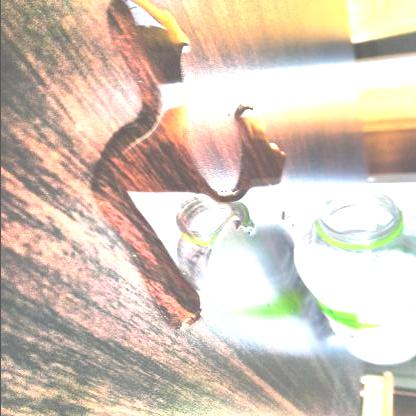bottle: (270, 181, 416, 368)
